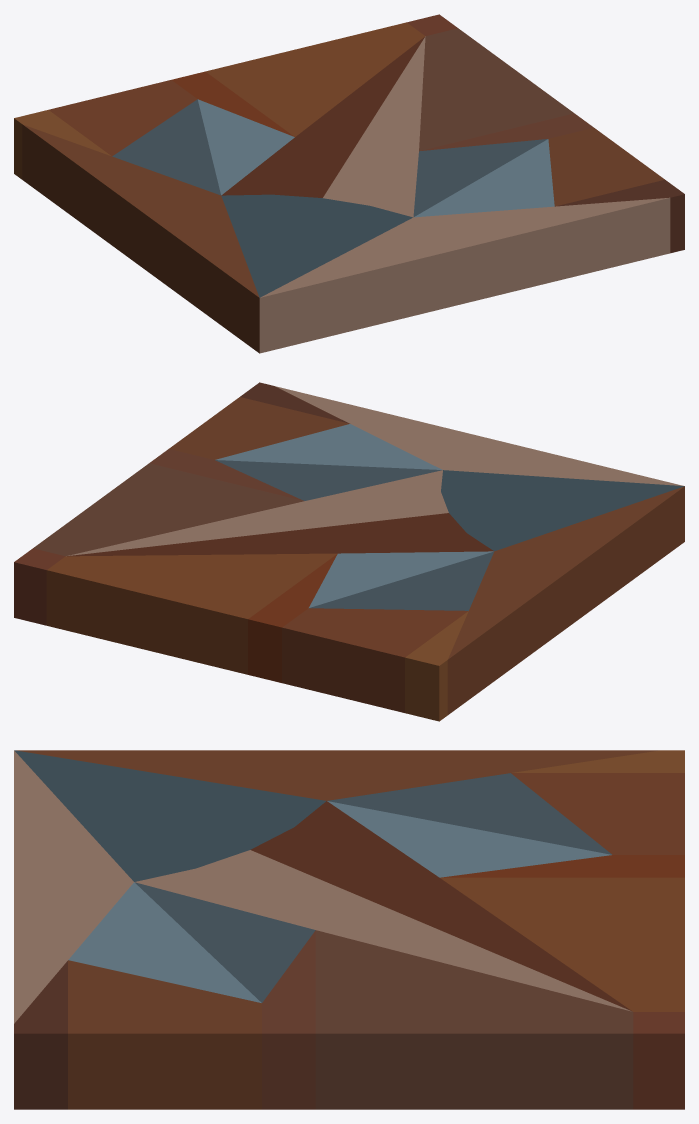
Rendered from Floor_CompassCorner.fbx.
3 renders of one model, top to bottom at view 1: azimuth 30°, elevation 25°; view 2: azimuth 150°, elevation 25°; view 3: azimuth 270°, elevation 25°, orthographic. The views are drawn at different scales.
Parts seen in each view (by area): view 1: Floor_CompassCorner; view 2: Floor_CompassCorner; view 3: Floor_CompassCorner.
Boxes of the visible parts, <box> form: Floor_CompassCorner: <box>14,14,684,353</box>; Floor_CompassCorner: <box>14,382,684,721</box>; Floor_CompassCorner: <box>14,750,684,1109</box>.
Size of the model in its own units: 200 by 200 by 25.
